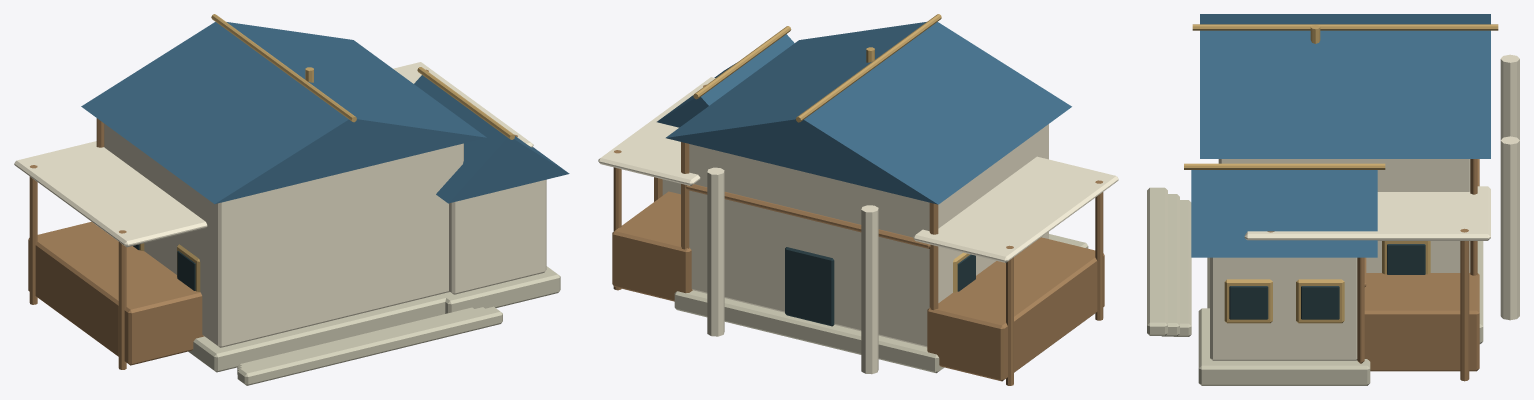
The model's file is level_20.glb.
The picture shows the model from 3 angles, left to right: view 1: azimuth 30°, elevation 25°; view 2: azimuth 150°, elevation 25°; view 3: azimuth 270°, elevation 25°; orthographic projection. The views are drawn at different scales.
Parts seen in each view (by area): view 1: market — level 20; view 2: market — level 20; view 3: market — level 20.
Part boxes in pixels (bbox=[...]): market — level 20: bbox=[14, 14, 569, 385]; market — level 20: bbox=[598, 14, 1118, 385]; market — level 20: bbox=[1147, 14, 1519, 385].
Bounding box in the file's own units: 7.08 × 3.77 × 5.
